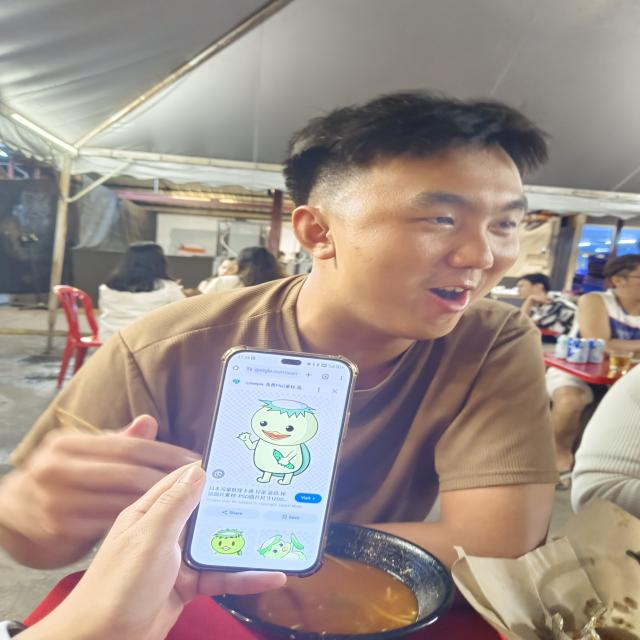person_without_labcoat: (0, 93, 557, 568)
